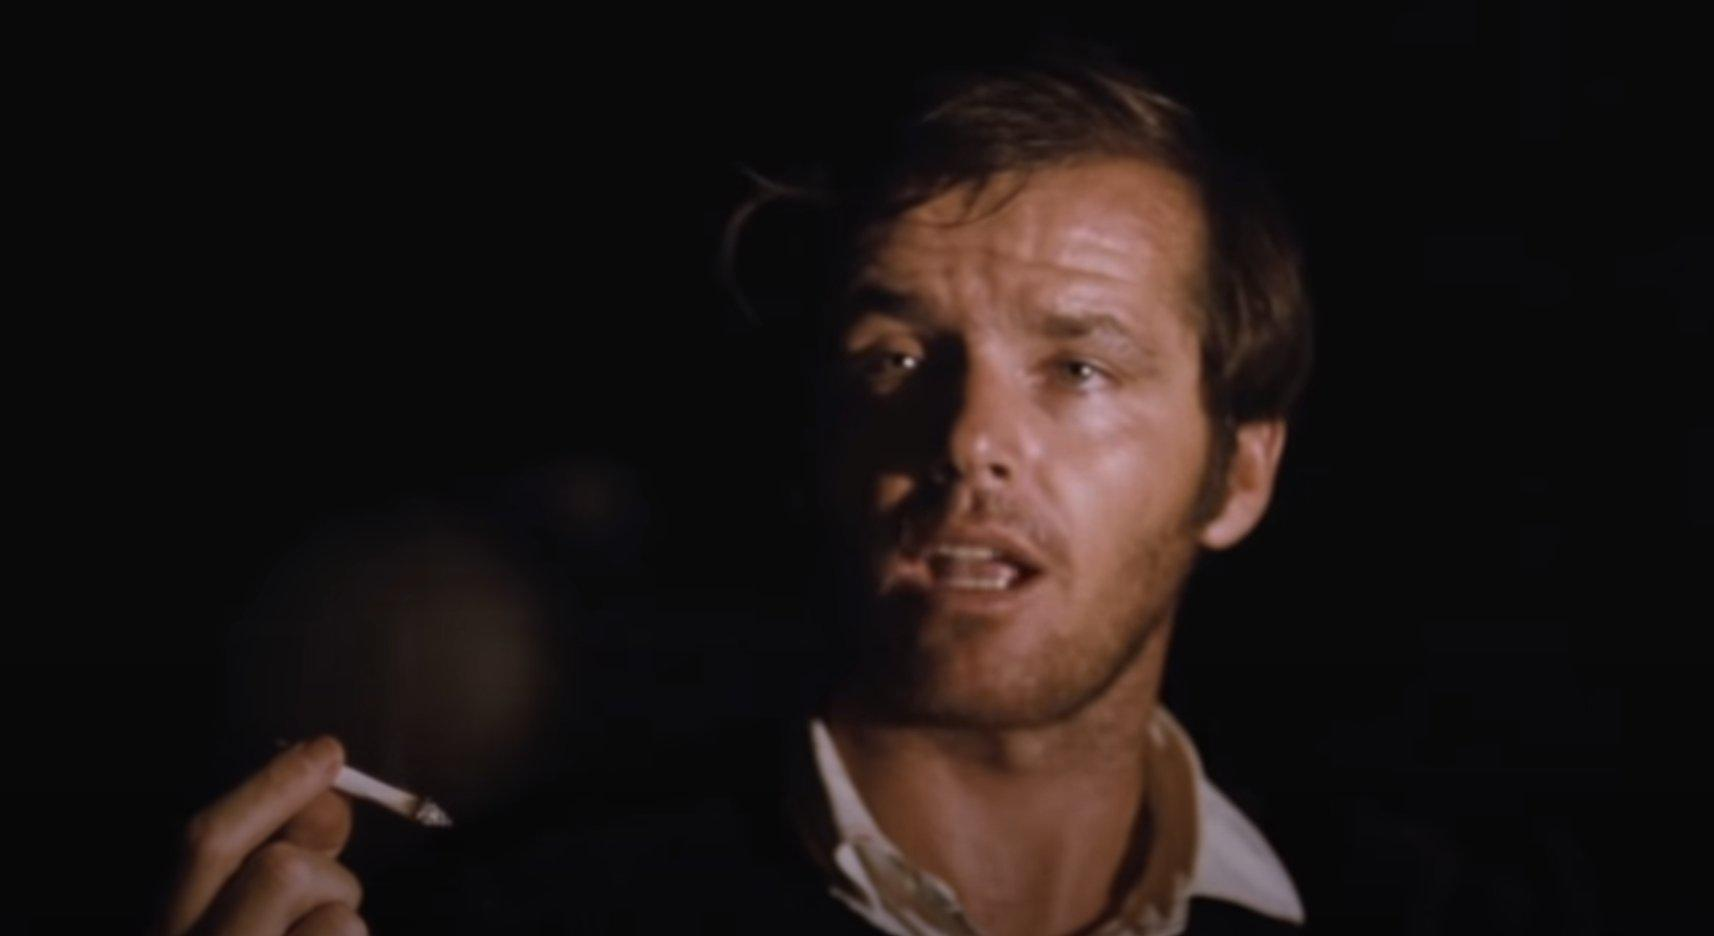Drunk: (839, 186, 1172, 725)
